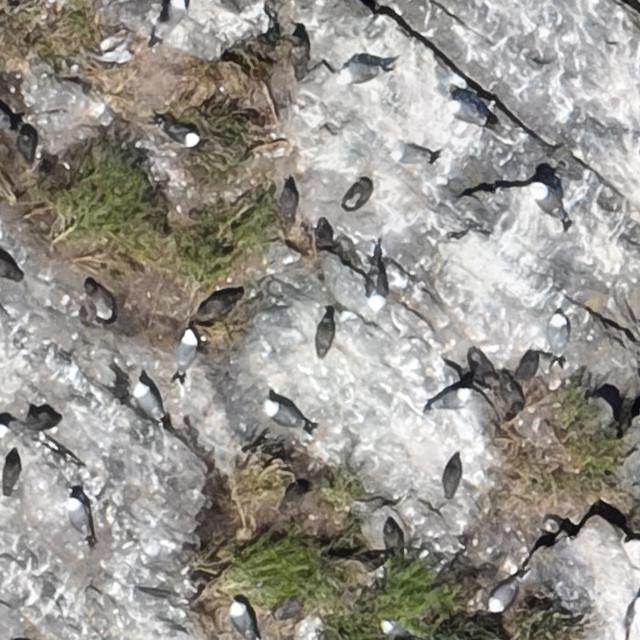umineko: (527, 183, 570, 224), (263, 398, 313, 432), (151, 2, 189, 40), (366, 246, 387, 311), (174, 328, 197, 378), (429, 387, 472, 409), (549, 313, 567, 365), (164, 122, 197, 146), (230, 603, 253, 637), (490, 580, 516, 610), (67, 498, 88, 534), (342, 64, 378, 82), (135, 386, 157, 415), (384, 620, 414, 636), (398, 150, 428, 166)
